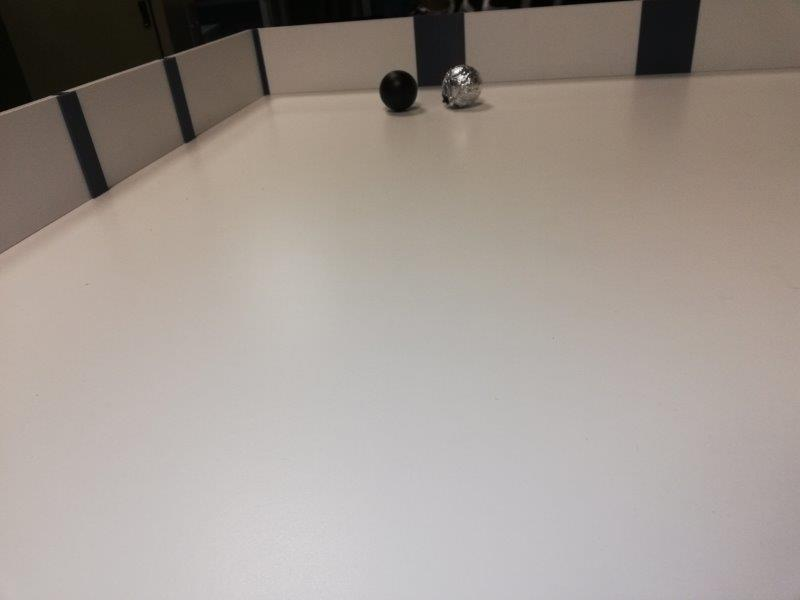bianca: (441, 64, 482, 108)
nera: (380, 70, 417, 112)
